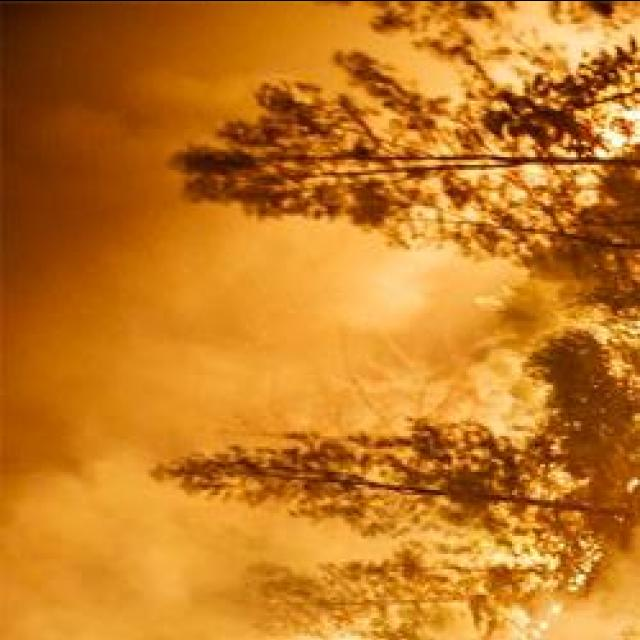fire: (595, 102, 640, 150), (560, 31, 590, 61)
smoke: (0, 440, 140, 640), (45, 285, 204, 403), (144, 223, 320, 317), (42, 59, 190, 159), (116, 496, 214, 638), (343, 255, 485, 327), (543, 590, 640, 640)
